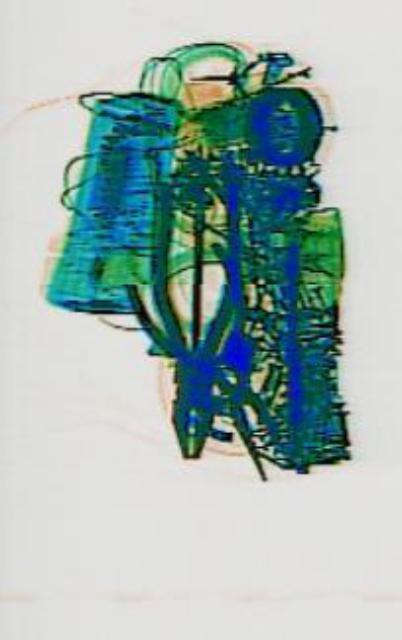Pliers: (120, 203, 308, 512), (142, 156, 240, 460)
